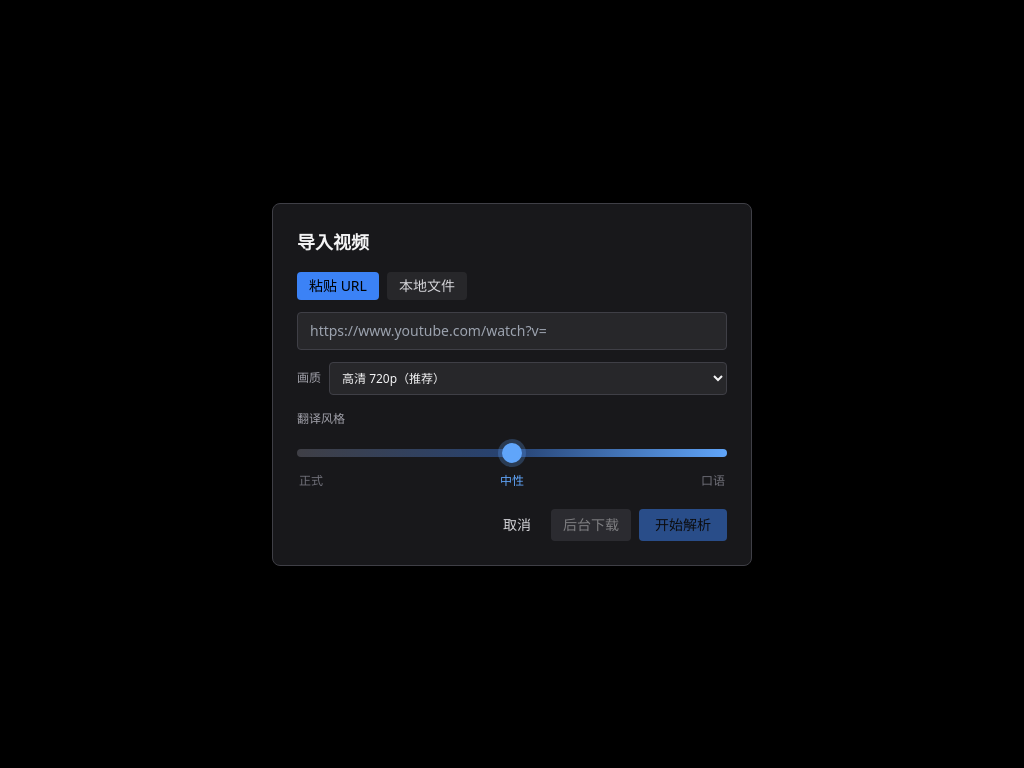
Test case: ImportModal — ✕ cancels the in-flight import › shows which scheduler resource the foreground import is waiting for
Type "https://www.youtube.com/watch?v=jNQXAC9IVRw" into the field with placeholder "https://www.youtube.com/watch?v=" at (512, 330), box [297,312,727,350]
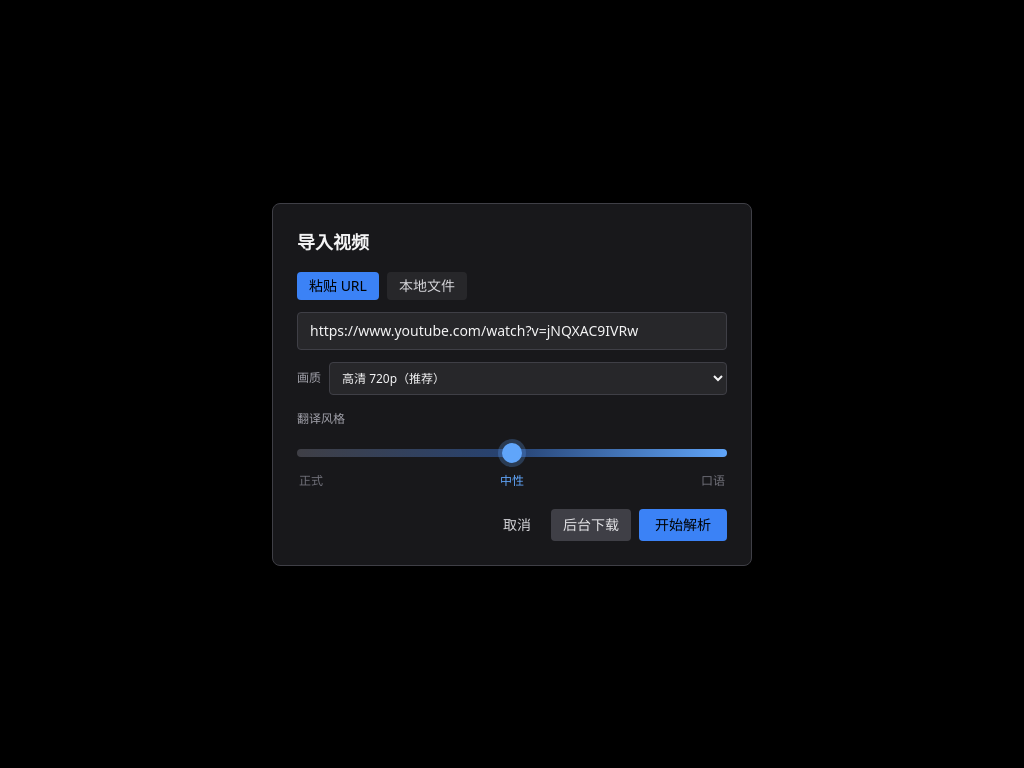
Click the button "开始解析" at (683, 524), box [639,508,727,540]
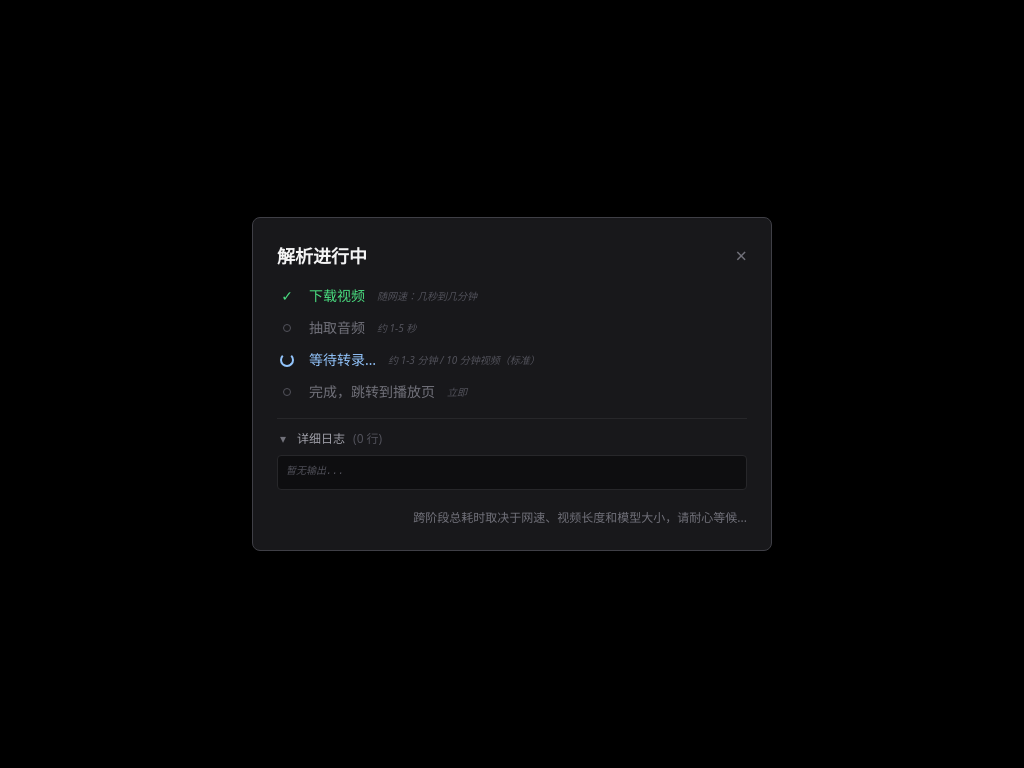
Now the text "等待下载…" is shown, box [309,286,365,306]
Now the text "等待转录…" is shown, box [309,350,376,370]
